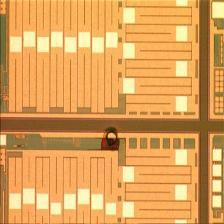PARTICLE: (100, 126, 124, 155)
